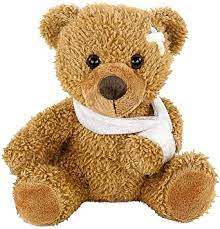teddy: (4, 3, 216, 223)
